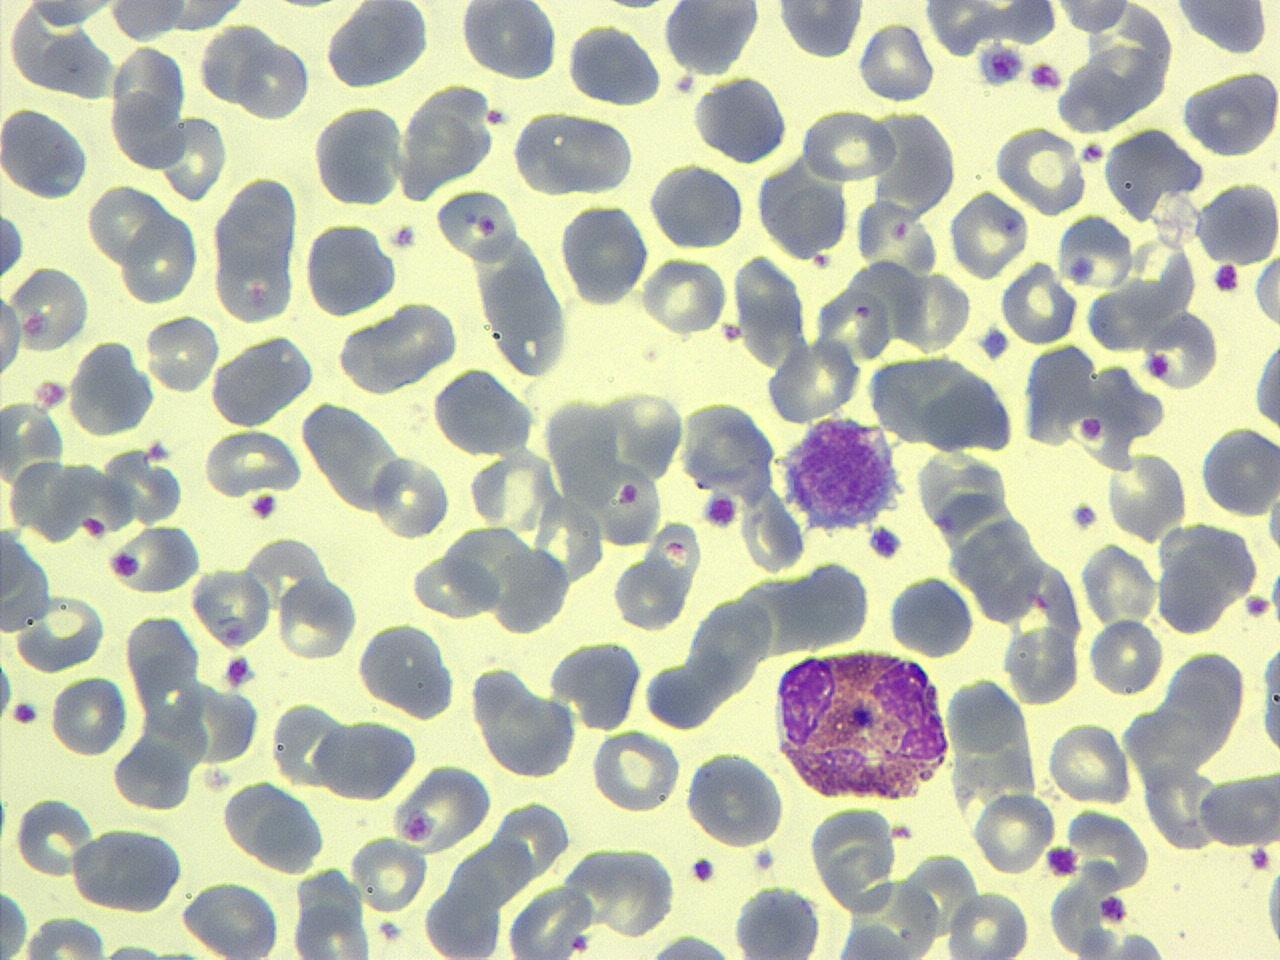Platelets: (976, 45, 1027, 88), (866, 523, 904, 563), (700, 491, 738, 530), (223, 652, 255, 690), (0, 652, 17, 723), (1027, 59, 1061, 93), (1068, 499, 1100, 533), (1098, 892, 1130, 925), (248, 491, 280, 522), (9, 698, 40, 728), (1243, 591, 1271, 621), (1078, 139, 1106, 164), (1248, 844, 1272, 871), (147, 440, 174, 462)
RBC: (510, 106, 638, 196), (356, 618, 460, 722), (683, 746, 788, 848), (69, 826, 188, 914), (752, 158, 852, 262), (429, 364, 541, 456), (560, 198, 652, 308), (311, 100, 403, 209), (302, 218, 401, 318), (212, 175, 300, 286), (392, 761, 494, 856), (692, 72, 794, 164), (1180, 66, 1280, 158), (66, 339, 157, 440), (731, 249, 808, 368), (312, 716, 417, 802), (550, 636, 646, 730), (1, 102, 92, 201), (647, 162, 746, 251), (992, 122, 1087, 214), (564, 23, 664, 108), (764, 336, 861, 423), (179, 877, 282, 958), (592, 726, 682, 816), (1103, 448, 1189, 542), (14, 590, 108, 676), (458, 2, 560, 81), (1045, 718, 1133, 807), (884, 574, 977, 658), (104, 520, 204, 598), (800, 105, 896, 186), (852, 194, 944, 278), (1197, 422, 1279, 516), (1080, 536, 1162, 628), (948, 187, 1029, 280), (202, 427, 305, 500), (1195, 180, 1279, 269), (10, 262, 91, 354), (662, 1, 760, 76), (640, 255, 730, 336), (276, 573, 358, 661), (370, 452, 452, 540), (974, 789, 1056, 877), (122, 211, 197, 307), (730, 882, 822, 960), (505, 882, 596, 960), (13, 796, 96, 880), (1198, 766, 1280, 850), (191, 565, 272, 650), (86, 182, 166, 268), (143, 309, 222, 396), (212, 242, 295, 324), (856, 19, 937, 102), (434, 185, 519, 264), (48, 673, 127, 758), (1001, 258, 1077, 346), (1140, 307, 1218, 392), (1003, 622, 1081, 706), (0, 521, 55, 640), (944, 886, 1032, 960), (1087, 615, 1165, 698), (199, 22, 275, 107), (350, 832, 428, 914), (1056, 211, 1134, 292), (408, 552, 500, 619), (422, 884, 504, 959), (236, 37, 310, 120), (163, 113, 230, 204), (612, 553, 688, 632), (1171, 0, 1271, 56), (774, 1, 864, 59), (291, 901, 371, 959), (21, 914, 110, 958), (105, 0, 189, 42), (1252, 321, 1280, 443), (21, 0, 123, 32), (1052, 0, 1134, 34), (1253, 244, 1280, 338), (0, 882, 31, 960), (1, 196, 26, 291), (0, 290, 24, 383)
WBC: (826, 0, 1280, 210), (768, 644, 955, 804), (775, 409, 906, 535), (1154, 522, 1264, 636), (431, 360, 544, 458), (357, 616, 462, 721), (208, 330, 319, 428), (75, 826, 188, 918), (322, 0, 434, 92), (304, 218, 406, 319), (222, 778, 328, 873), (756, 156, 854, 258), (690, 70, 791, 166), (67, 337, 159, 437), (565, 22, 671, 108), (1, 103, 90, 201), (462, 2, 561, 83), (660, 1, 762, 78), (0, 522, 54, 640), (1255, 623, 1280, 774)
